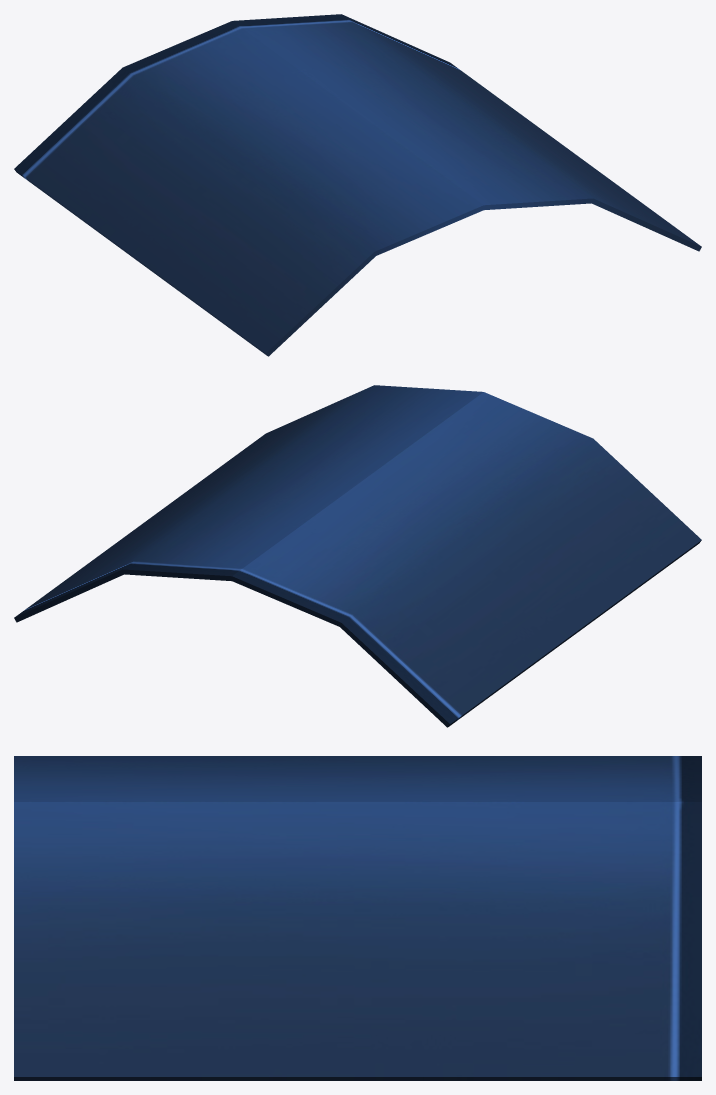
The model's file is Vomtrong_Map3.fbx.
The picture shows the model from 3 angles, top to bottom: view 1: azimuth 30°, elevation 25°; view 2: azimuth 150°, elevation 25°; view 3: azimuth 270°, elevation 25°; orthographic projection. The views are drawn at different scales.
Visible parts, largest first — view 1: Maivom; view 2: Maivom; view 3: Maivom.
Part boxes in pixels (bbox=[...]): Maivom: bbox=[14, 14, 701, 356]; Maivom: bbox=[14, 385, 701, 727]; Maivom: bbox=[14, 756, 701, 1080].
Size of the model in its own units: 69.08 by 14.99 by 69.07.
